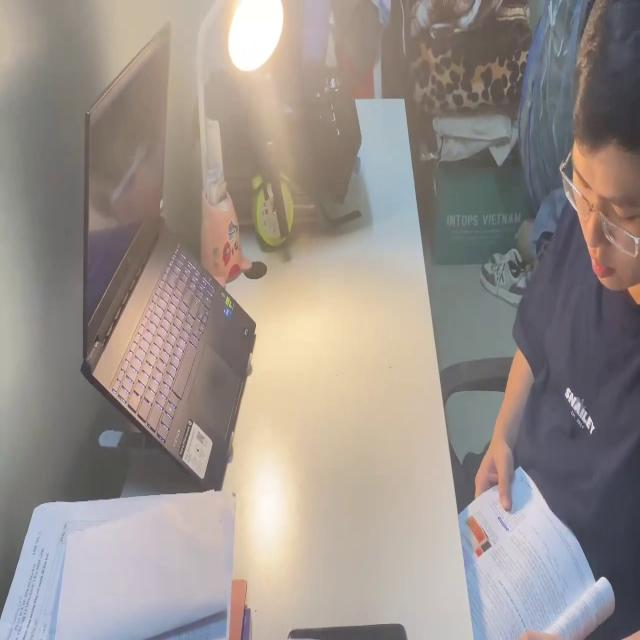book: (8, 494, 250, 640), (458, 465, 614, 640)
laptop: (78, 14, 260, 490)
phone: (290, 617, 405, 640)
student: (450, 0, 640, 607)
